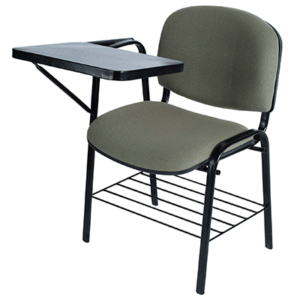m01: (12, 5, 283, 294)
